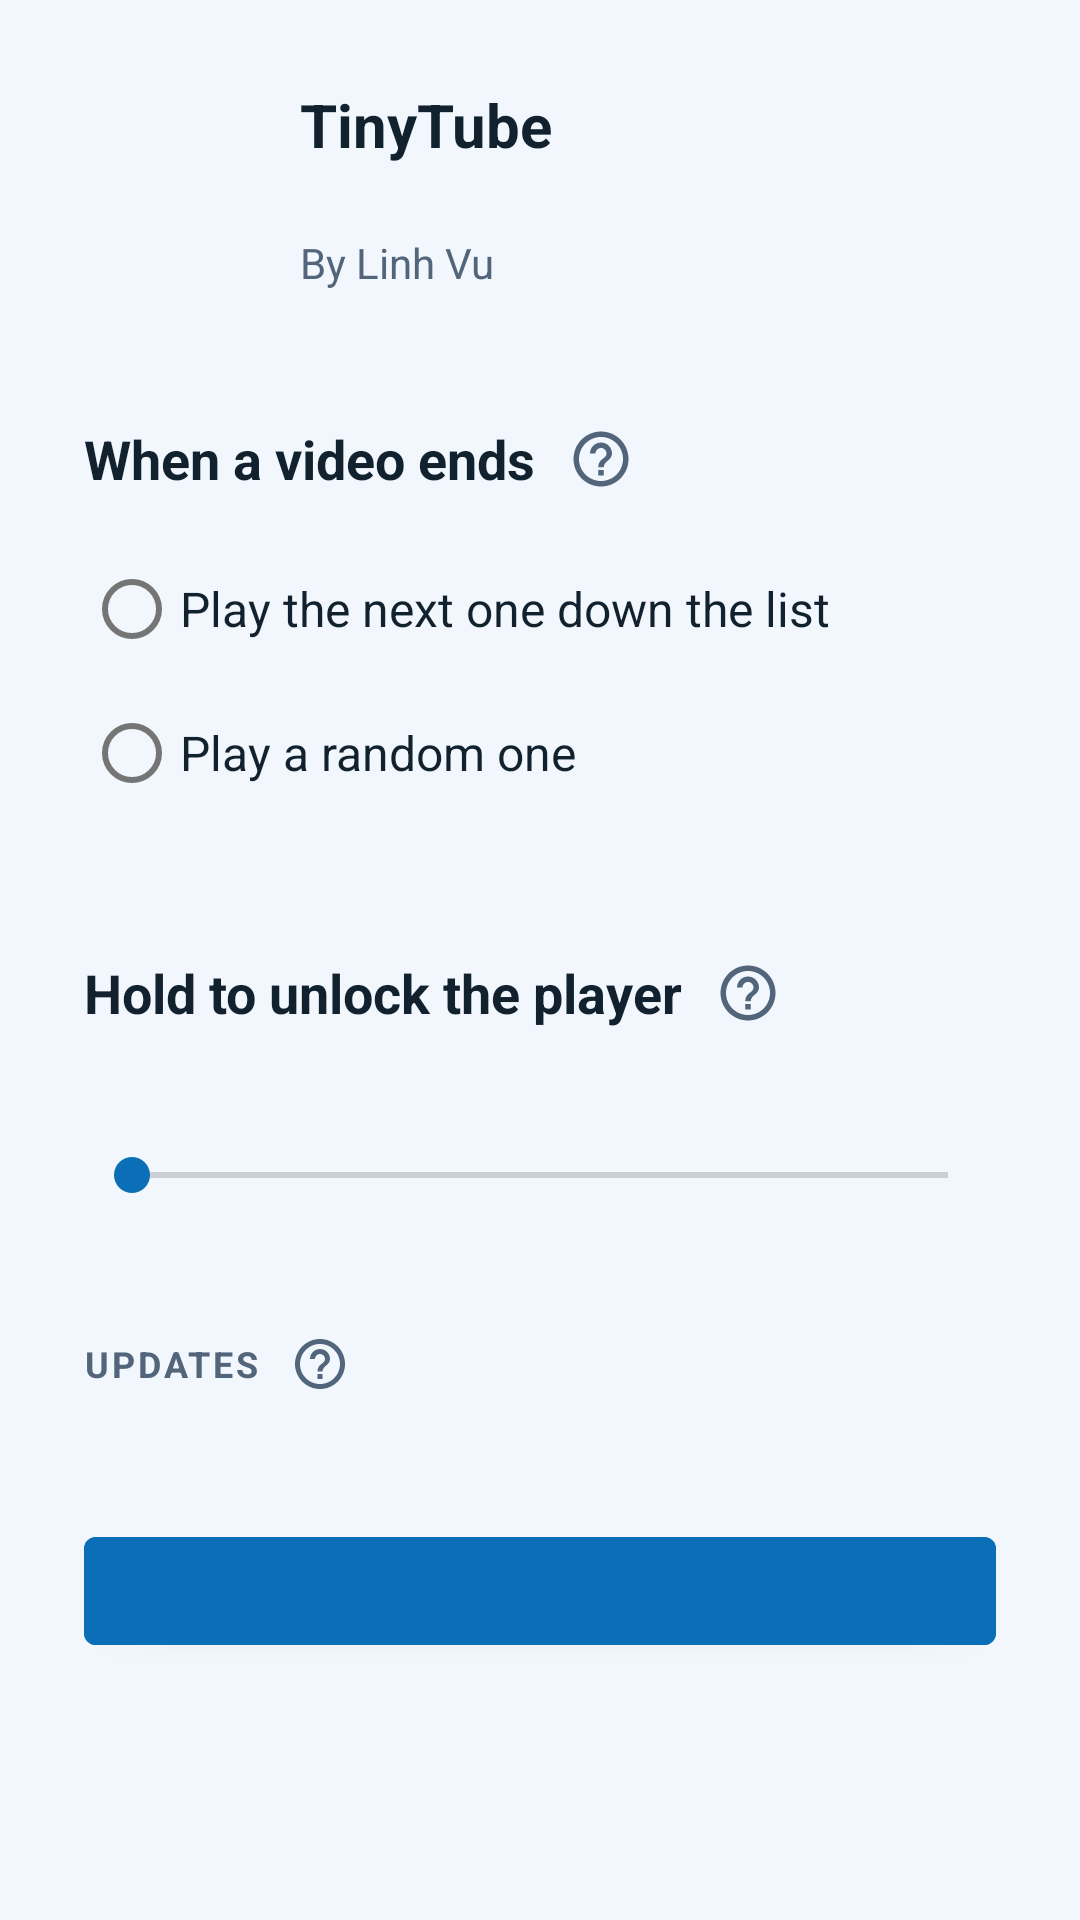

Screen size 1080px x 1920px. Icon name, then its center in pixels as (x=x, y=y):
help: (x=601, y=459), (x=748, y=993), (x=320, y=1364)
